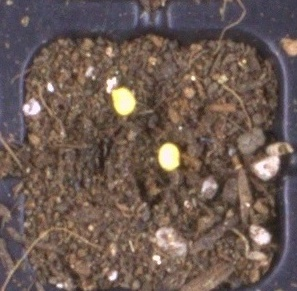chilli seed: (110, 86, 136, 116), (157, 142, 180, 171)
